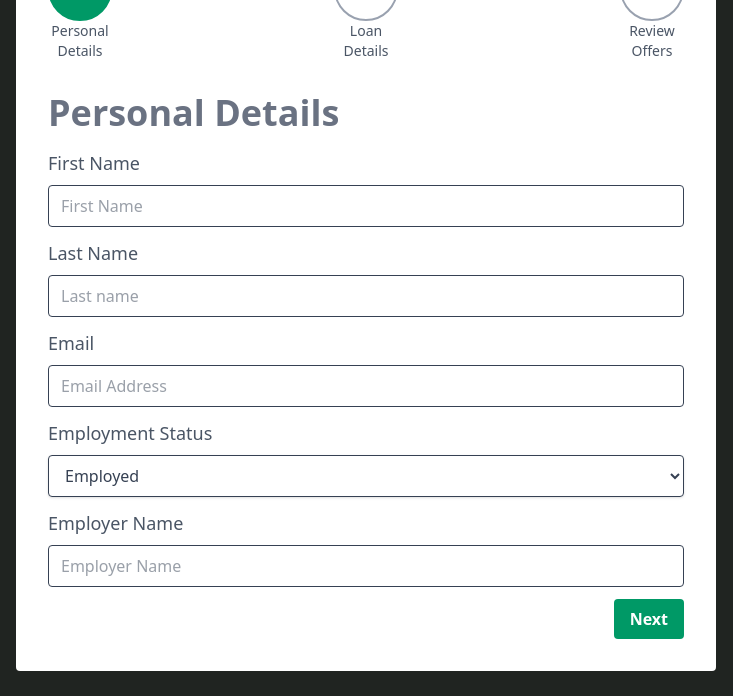
Scenario: Personal Details Form Validation › should display an error message when the first name input is empty on next
This screenshot has width=733, height=696.
(page scrolled)
What coordinates should you click on to do the following:
click the button with test id "personalDetails-footer-next"
I would click on:
 (649, 619)
Its box is [614,599,684,639].
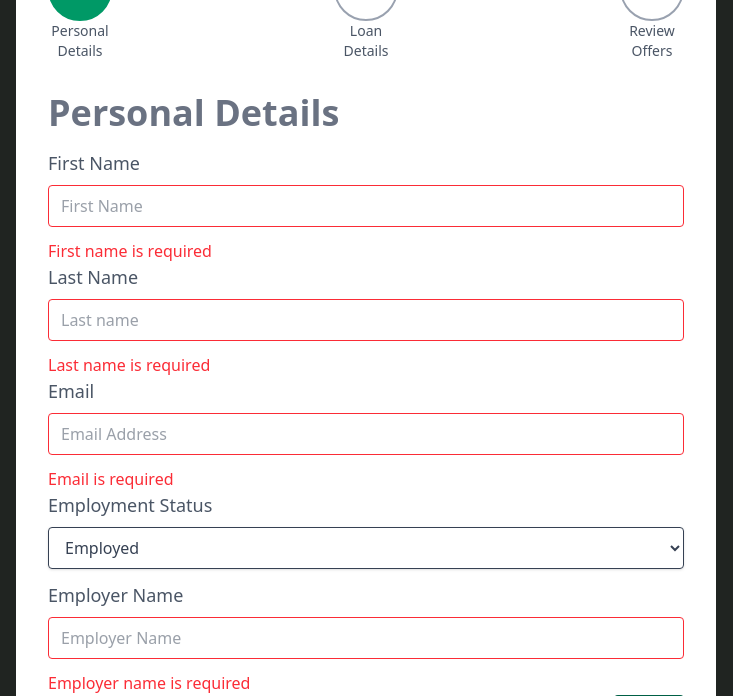
Result: the text with test id "personalDetails-firstName-errorMessage" reads "First name is required" at [48,240,212,262]
